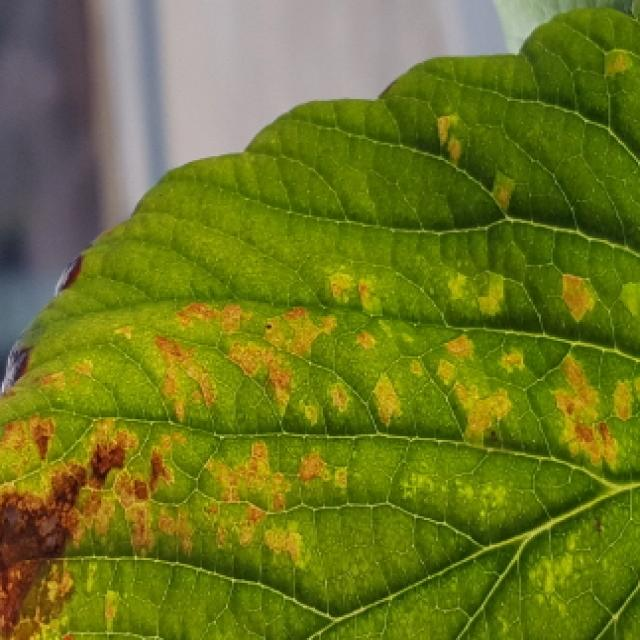Angular Leafspot: (0, 31, 640, 640)
